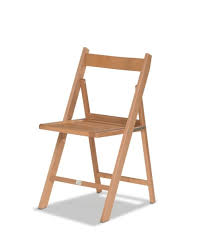tiyarina: (30, 42, 171, 230)
